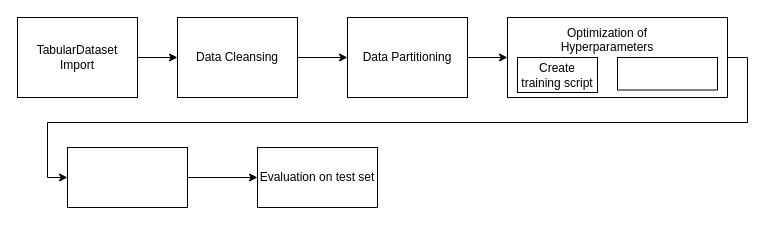
This 773x225 diagram has some shape labels left out. Each missing label, with the centre of its shape:
HyperdriveConfig: pixel 667 73
Logistic Regression: pixel 127 177
